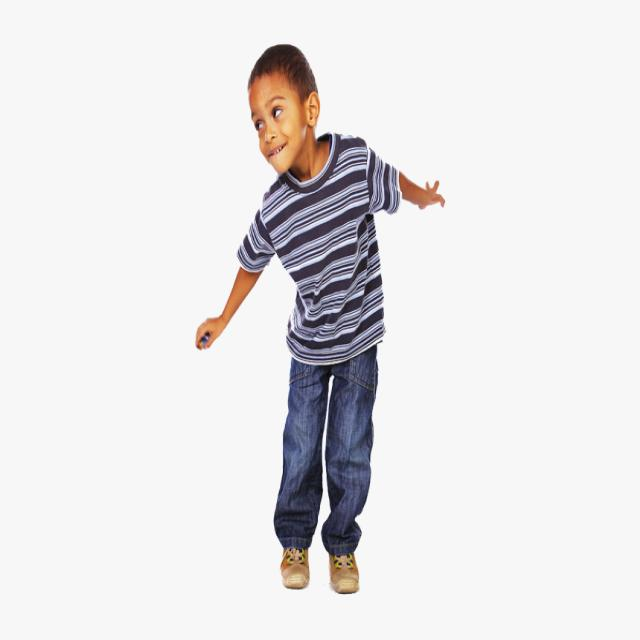child: (193, 41, 452, 618)
